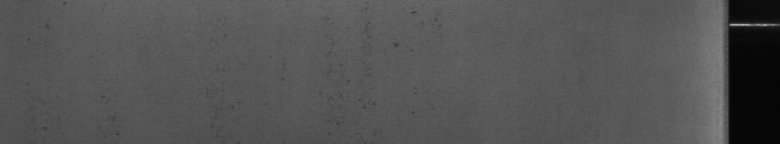ib: (319, 9, 424, 127)
